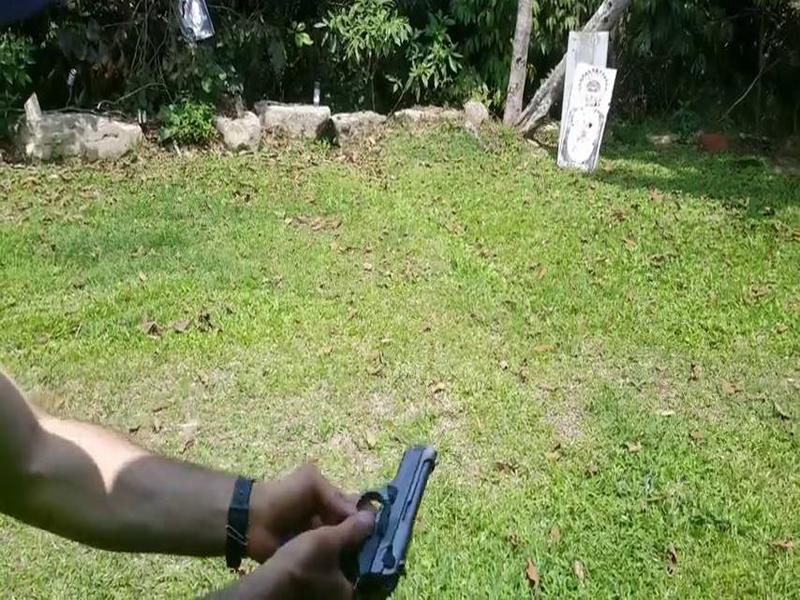Pistola: (310, 441, 445, 590)
